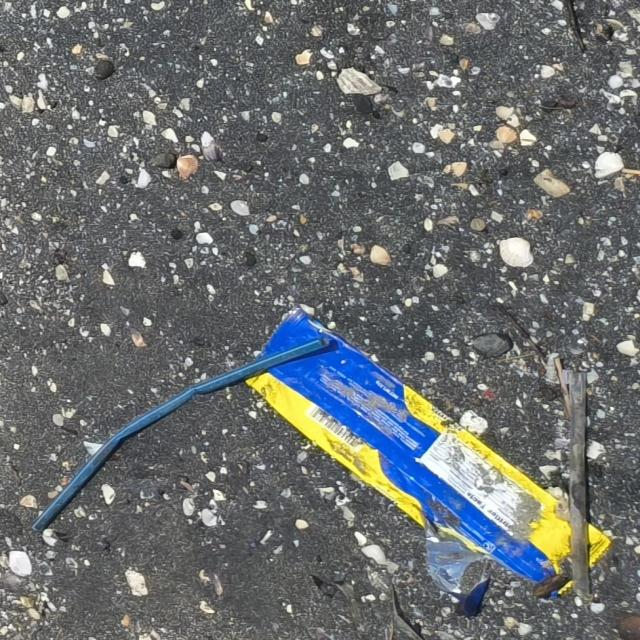plastic_waste: (247, 308, 575, 586), (33, 335, 335, 533)
